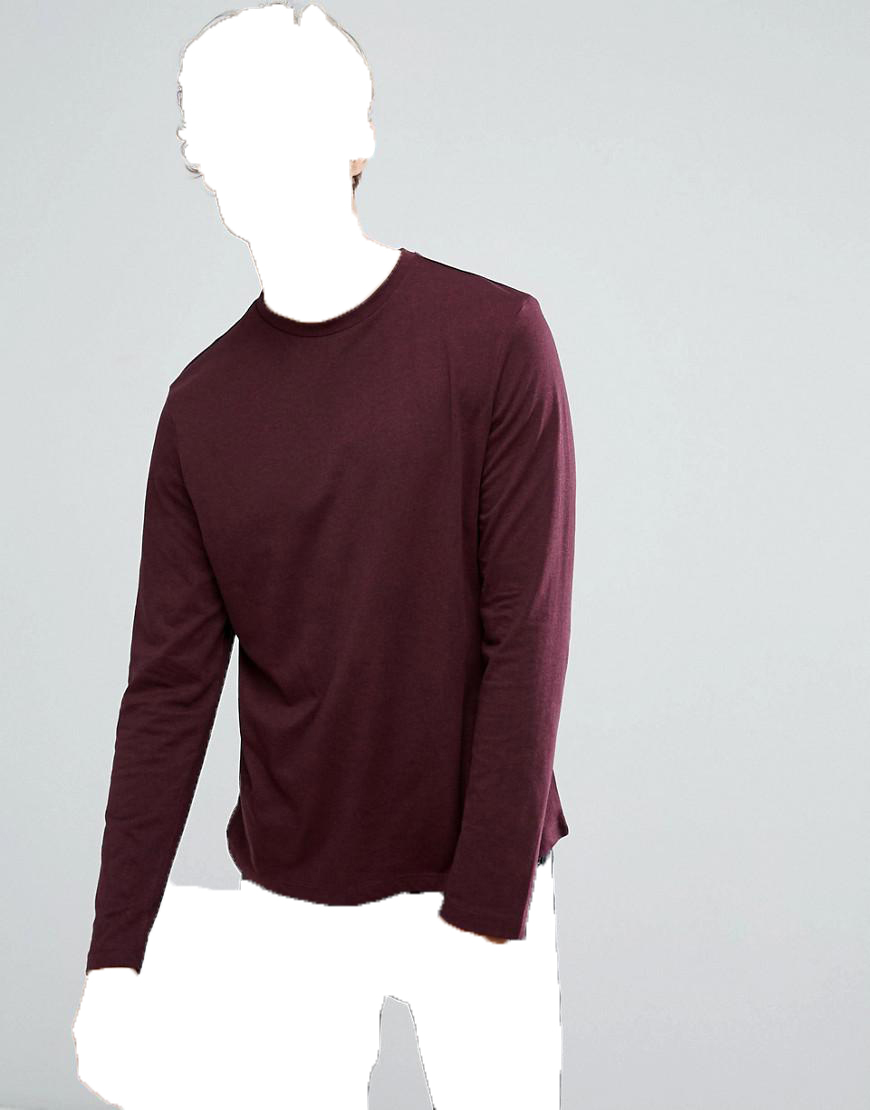teeshirt: (64, 247, 610, 974)
